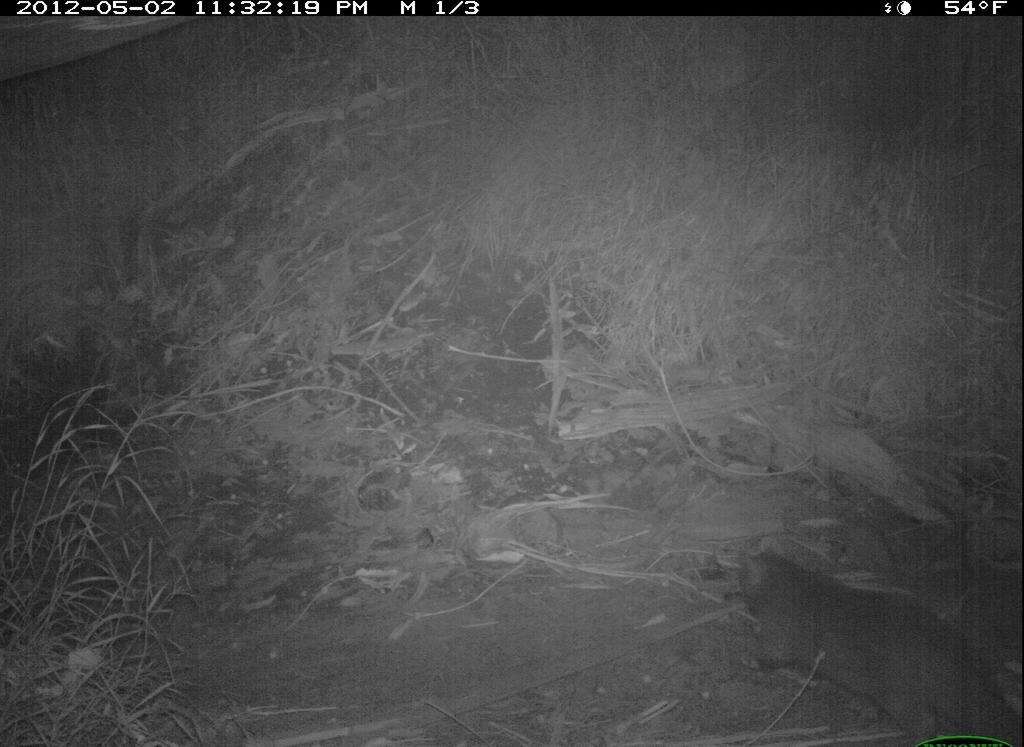cat: (725, 510, 1019, 747)
